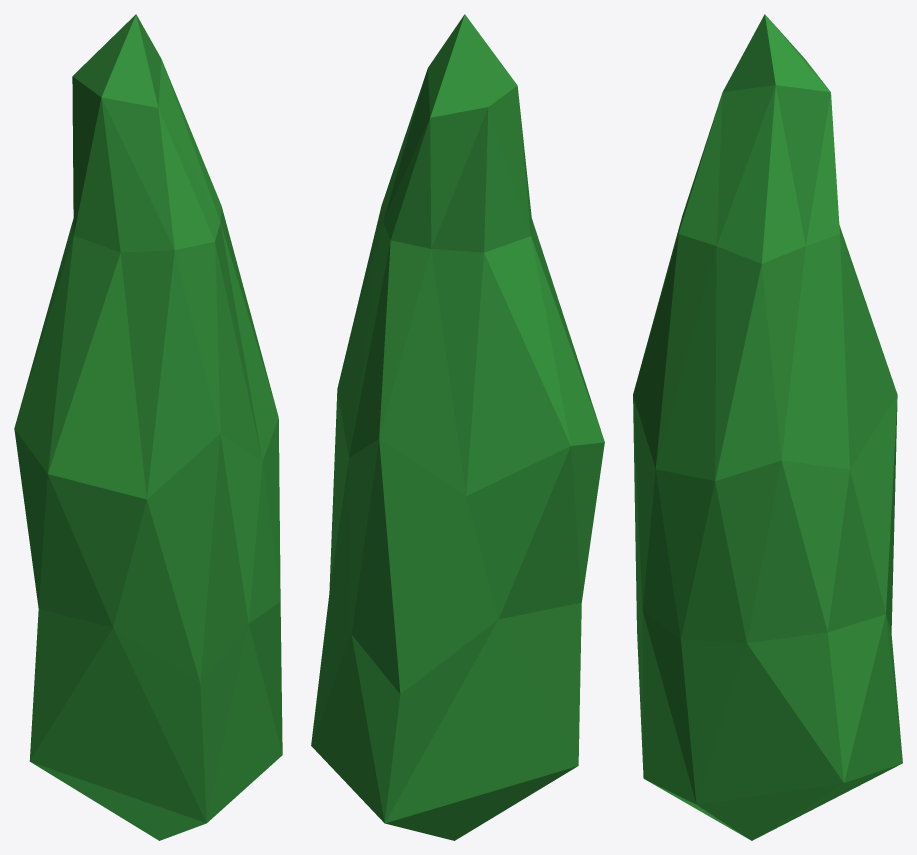
Rendered from Tree_1_Green.fbx.
3 renders of one model, left to right at view 1: azimuth 30°, elevation 25°; view 2: azimuth 150°, elevation 25°; view 3: azimuth 270°, elevation 25°, orthographic. The views are drawn at different scales.
Visible parts, largest first — view 1: Tree_1_Green; view 2: Tree_1_Green; view 3: Tree_1_Green.
Part boxes in pixels (x1,y1,x2,y2): Tree_1_Green: (14,14,282,840); Tree_1_Green: (311,14,604,840); Tree_1_Green: (633,14,902,840).
Bounding box in the file's own units: 183 × 596 × 178.
